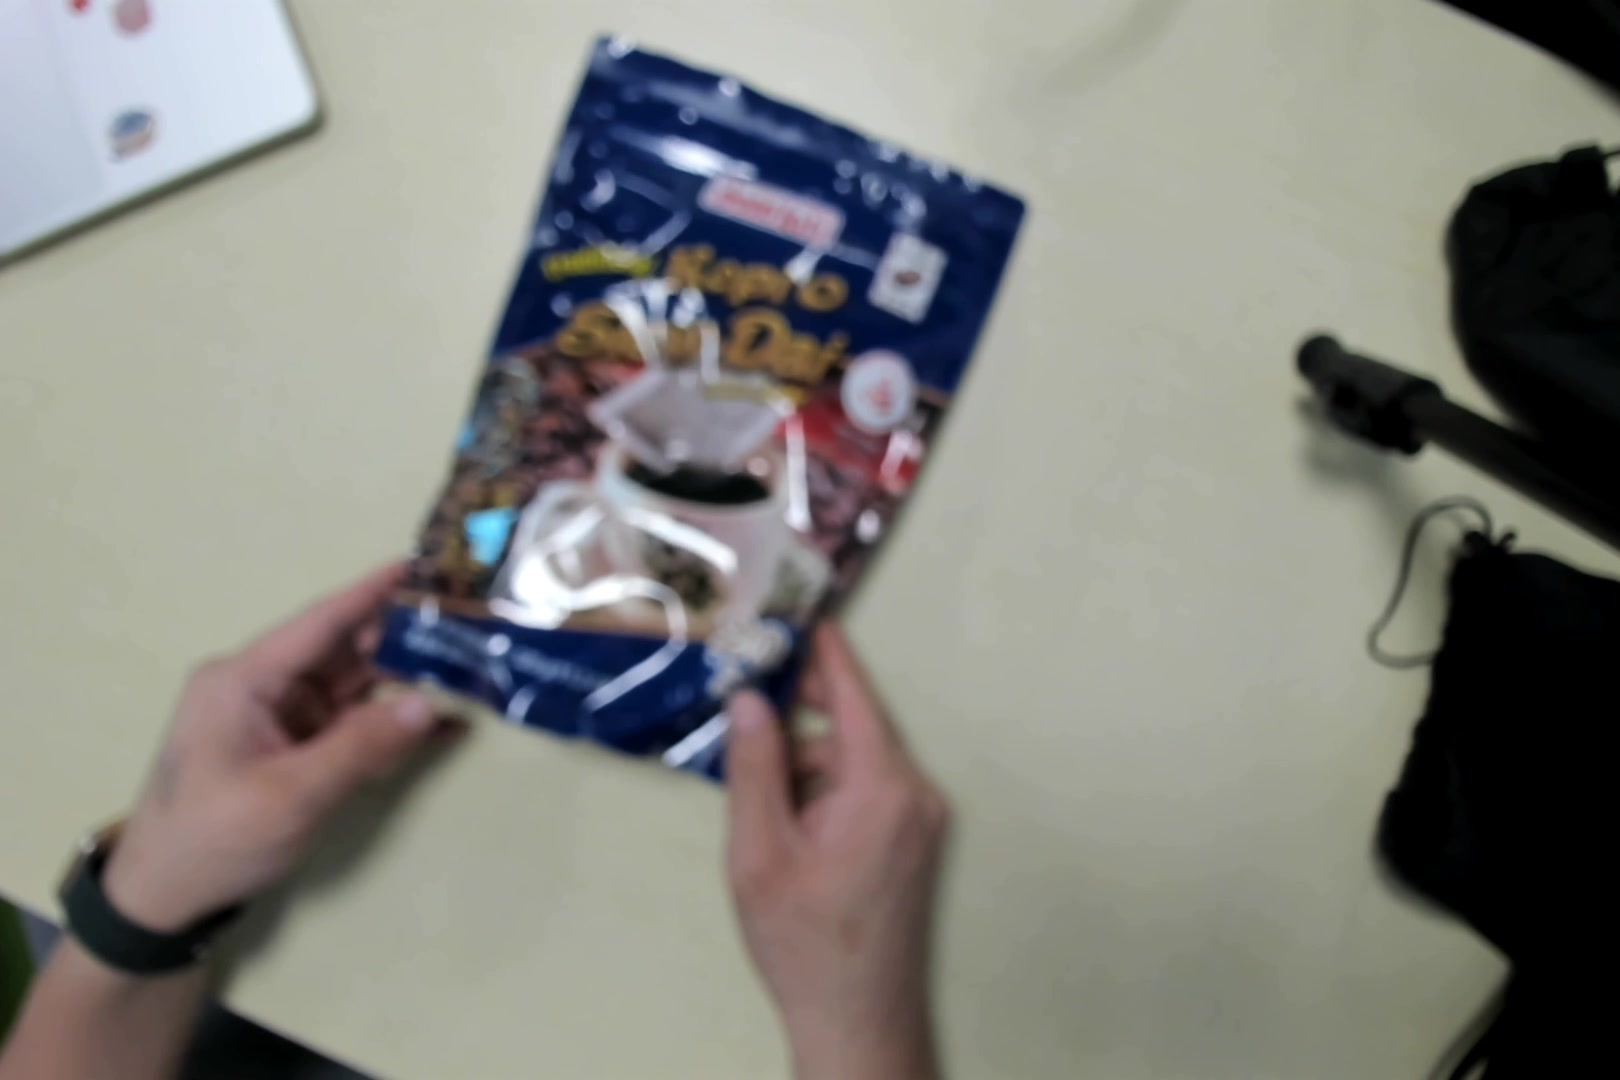Coffee(Powder)_300-399g_Halal_Healthy: (372, 47, 1043, 790)
